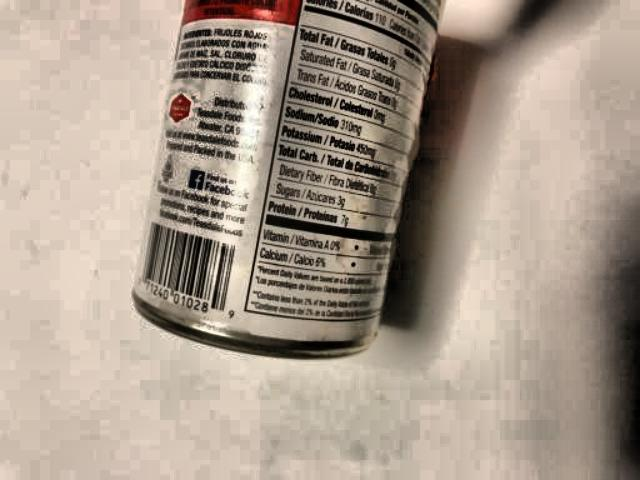Almennt: (121, 0, 460, 375)
